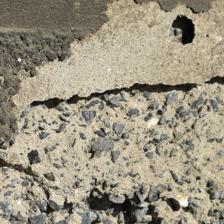Crack: (83, 0, 141, 91), (175, 45, 220, 103)
